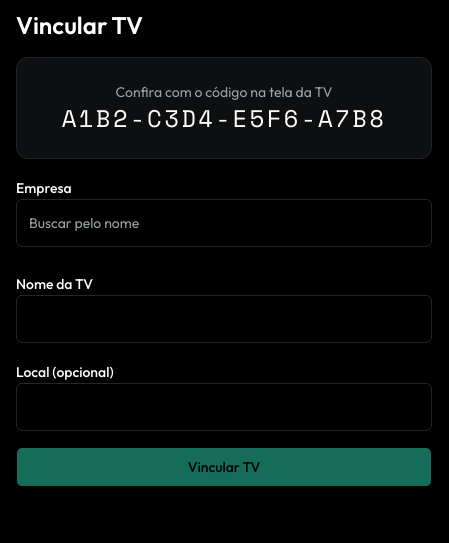
Test: ParearView › envia empresa, nome, local e a key
Type "pad" into the field labelled "Empresa".
click(224, 223); type("pad")  # box [16,199,432,247]
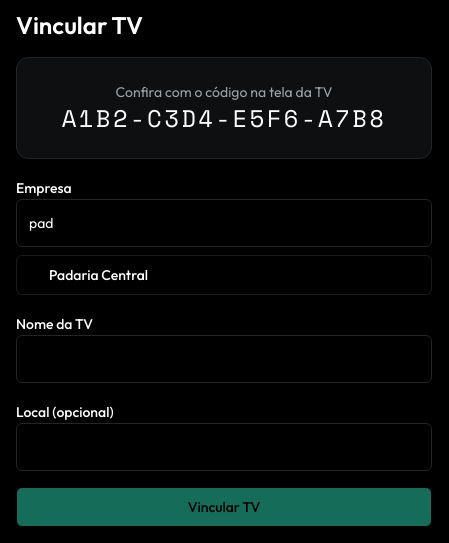
Click the button "Padaria Central".
click(99, 275)  # box [16,255,432,295]
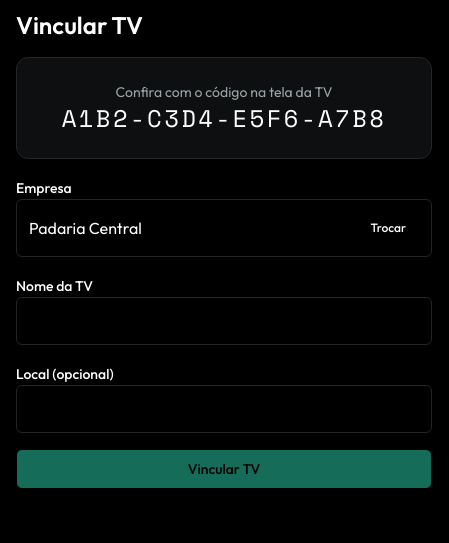
Type "TV do caixa" into the field labelled "Nome da TV".
click(224, 321); type("TV do caixa")  # box [16,297,432,345]
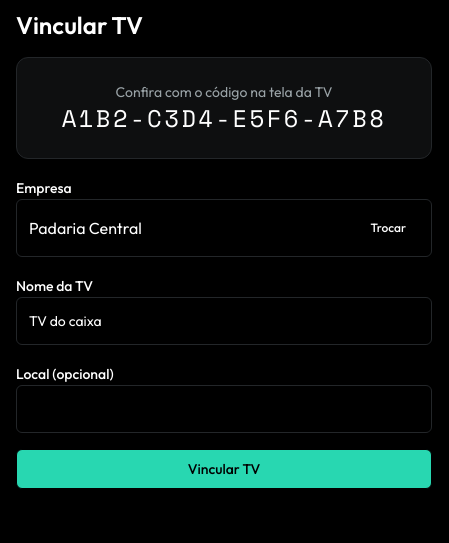
Type "Balcão" into the field labelled "Local (opcional)".
click(224, 409); type("Balcão")  # box [16,385,432,433]
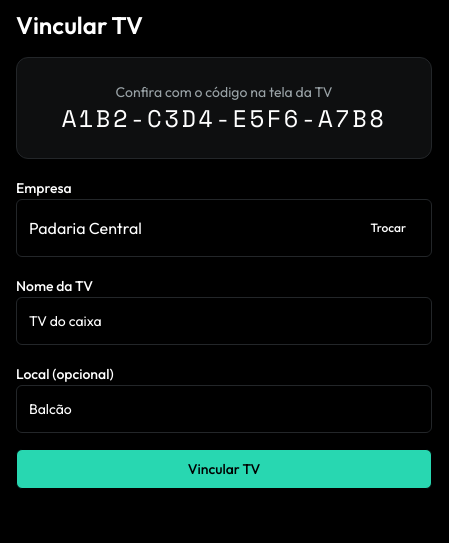
Click the button "Vincular TV".
click(224, 469)  # box [16,449,432,489]
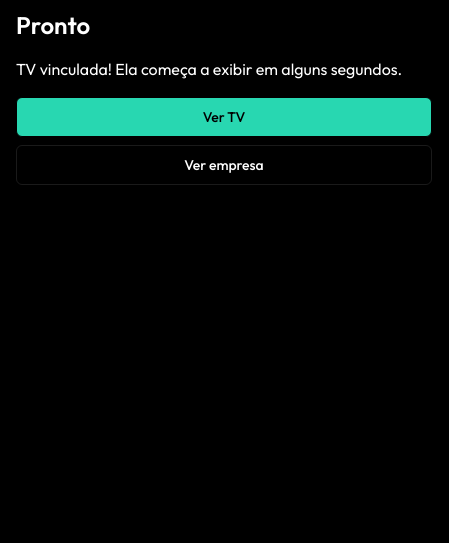
Now the text "TV vinculada! Ela começa a exibir em alguns segundos." is shown, box [16,57,432,81]
